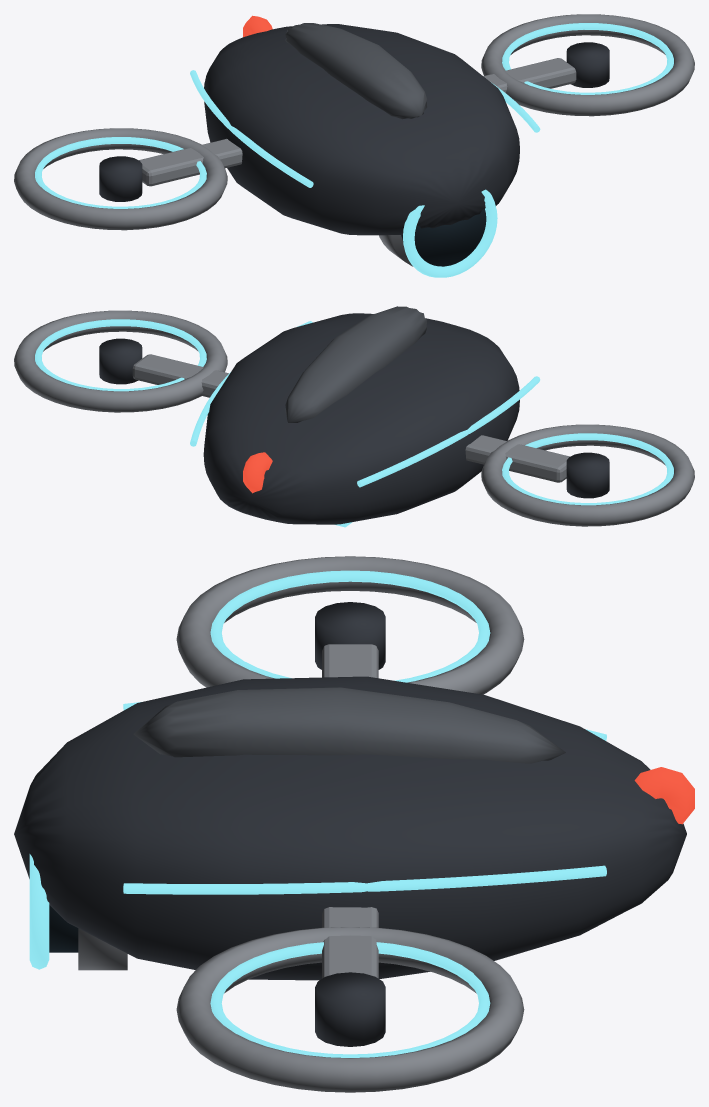
Rendered from drone.glb.
The picture shows the model from 3 angles, top to bottom: view 1: azimuth 30°, elevation 25°; view 2: azimuth 150°, elevation 25°; view 3: azimuth 270°, elevation 25°; orthographic projection. The views are drawn at different scales.
Visible parts, largest first — view 1: Shell, Alloy, Trim, Panel, CamGlass, NavRed; view 2: Shell, Alloy, Panel, Trim, NavRed; view 3: Shell, Alloy, Panel, Trim, NavRed, CamGlass.
Part boxes in pixels (x1,y1,x2,y2): Shell: (99, 24, 609, 235); Alloy: (14, 14, 694, 266); Trim: (35, 23, 673, 277); Panel: (285, 23, 426, 119); CamGlass: (401, 208, 486, 266); NavRed: (243, 15, 272, 37); Shell: (99, 313, 609, 524); Alloy: (14, 310, 694, 526); Panel: (285, 306, 427, 422); Trim: (35, 319, 673, 527); NavRed: (243, 452, 272, 493); Shell: (14, 602, 686, 1046); Alloy: (78, 556, 524, 1092); Panel: (133, 687, 565, 763); Trim: (29, 570, 606, 1057); NavRed: (634, 767, 694, 824); CamGlass: (49, 905, 78, 952).
Bounding box in the file's own units: 1.73 × 0.4134 × 0.9635.
